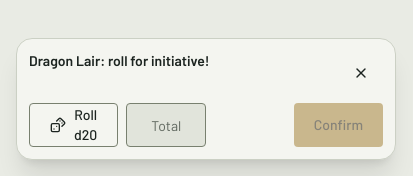
Test case: InitiativeRollPrompt › handles negative modifier in breakdown correctly
Click the button "Roll d20".
click(74, 125)  # box [29,103,118,147]
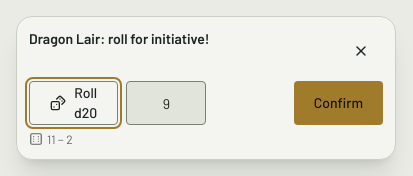
expect the text "11 − 2" is shown: met, box [29,132,73,146]
